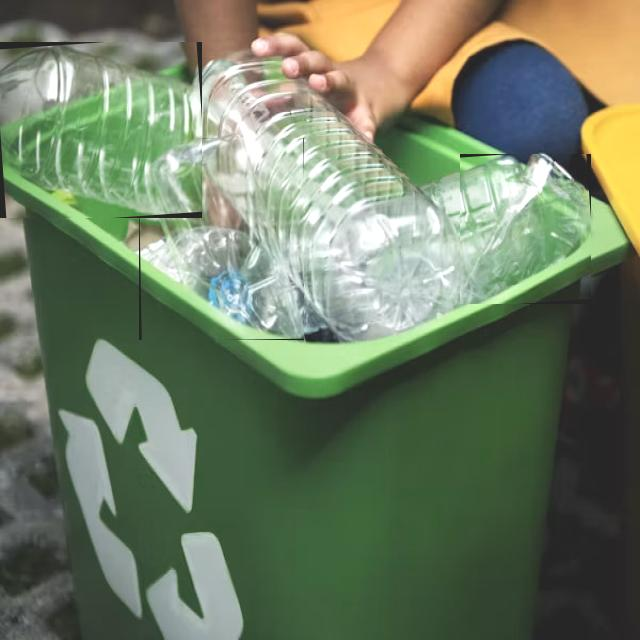Bottle: (197, 56, 459, 339), (0, 42, 201, 217), (139, 139, 303, 339), (423, 154, 590, 304)
